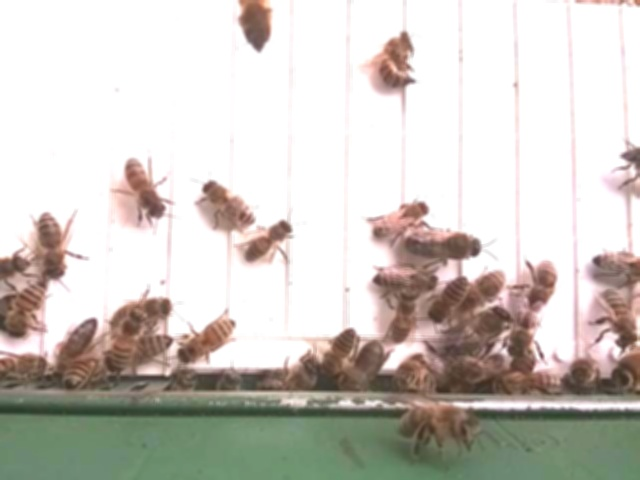Drone: (439, 303, 515, 360), (403, 227, 491, 265), (334, 340, 393, 395)
Worker: (389, 397, 488, 455), (2, 276, 61, 341), (175, 313, 242, 367), (108, 287, 179, 335), (121, 152, 171, 220), (202, 175, 259, 230), (104, 306, 150, 373), (596, 285, 640, 355), (485, 361, 565, 399), (35, 204, 71, 284), (370, 197, 433, 241), (242, 216, 295, 266), (375, 28, 414, 95), (319, 326, 365, 377), (56, 315, 100, 368), (459, 267, 508, 311), (428, 274, 471, 324), (525, 255, 562, 313), (388, 285, 421, 345), (372, 264, 439, 293), (393, 355, 442, 392)
